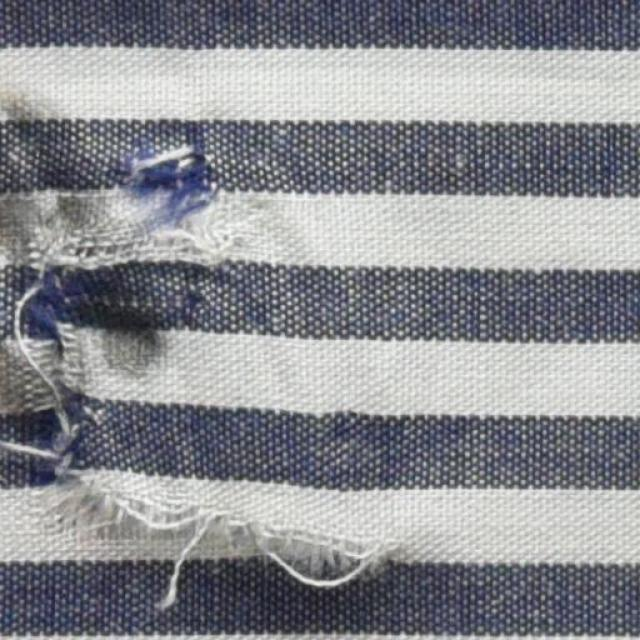cut: (57, 472, 396, 592), (86, 138, 238, 248), (18, 228, 84, 472)
